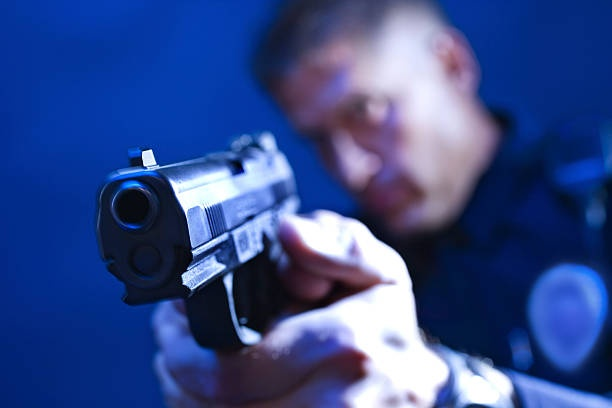gun: (93, 130, 339, 387)
